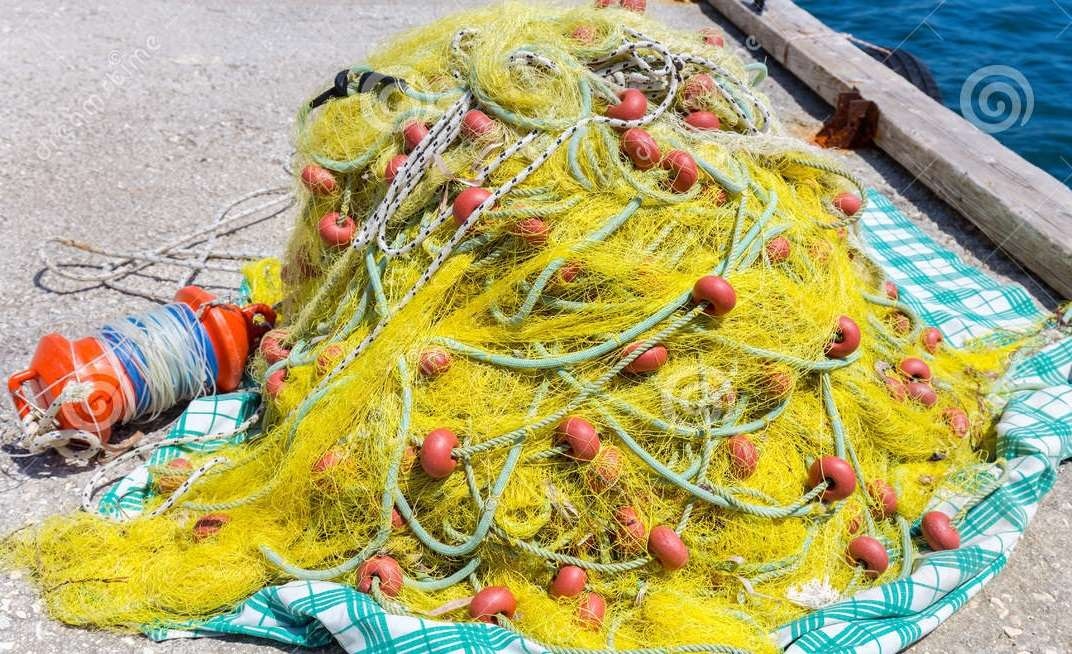net: (55, 453, 334, 620), (451, 5, 604, 115), (367, 262, 512, 357), (744, 231, 855, 348)
